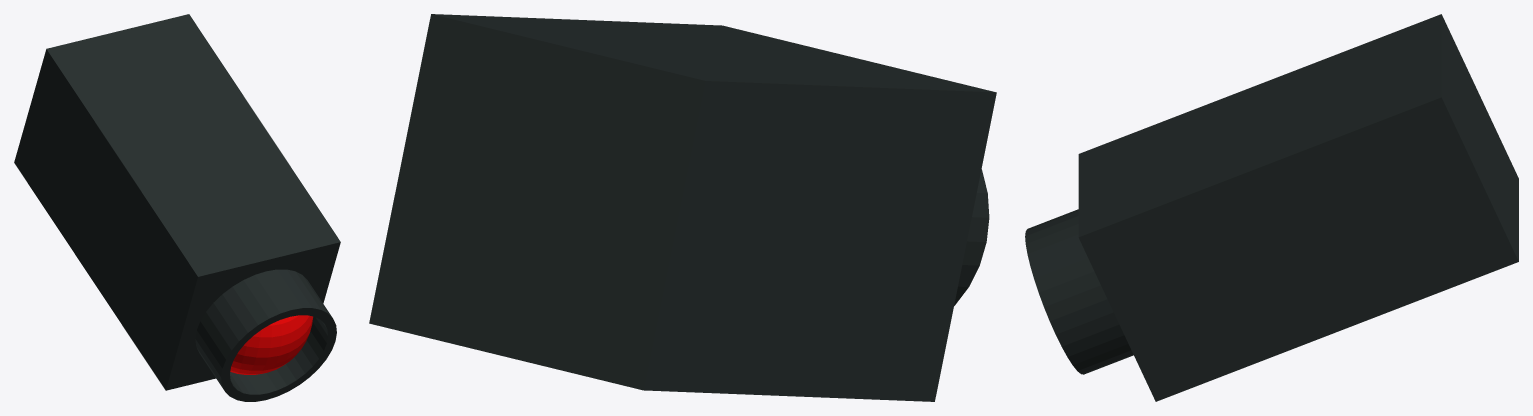
The model's file is mfs_securitycamera.gltf.
3 views of the same model, side by side, from view 1: azimuth 30°, elevation 25°; view 2: azimuth 150°, elevation 25°; view 3: azimuth 270°, elevation 25° (orthographic). The views are drawn at different scales.
Visible parts, largest first — view 1: Cube, Cylinder, Sphere; view 2: Cube, Cylinder; view 3: Cube, Cylinder.
Part boxes in pixels (<box>): Cube: <box>14,14,340,390</box>; Cylinder: <box>195,269,336,401</box>; Sphere: <box>230,315,313,374</box>; Cube: <box>369,14,996,401</box>; Cylinder: <box>954,169,989,305</box>; Cube: <box>1078,14,1518,401</box>; Cylinder: <box>1025,209,1133,374</box>.
Bounding box in the file's own units: 0.8 × 1.39 × 2.
